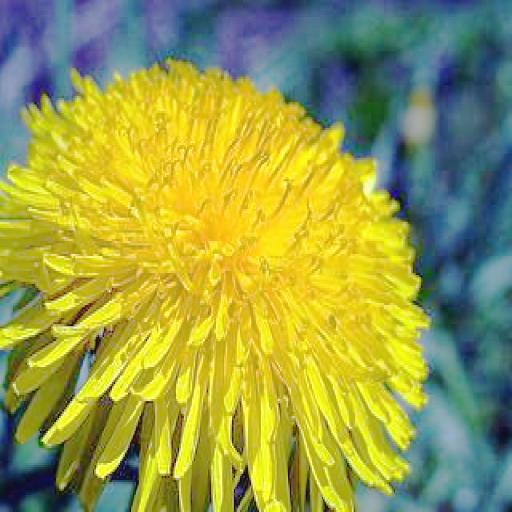dandelion: (3, 2, 509, 510)
